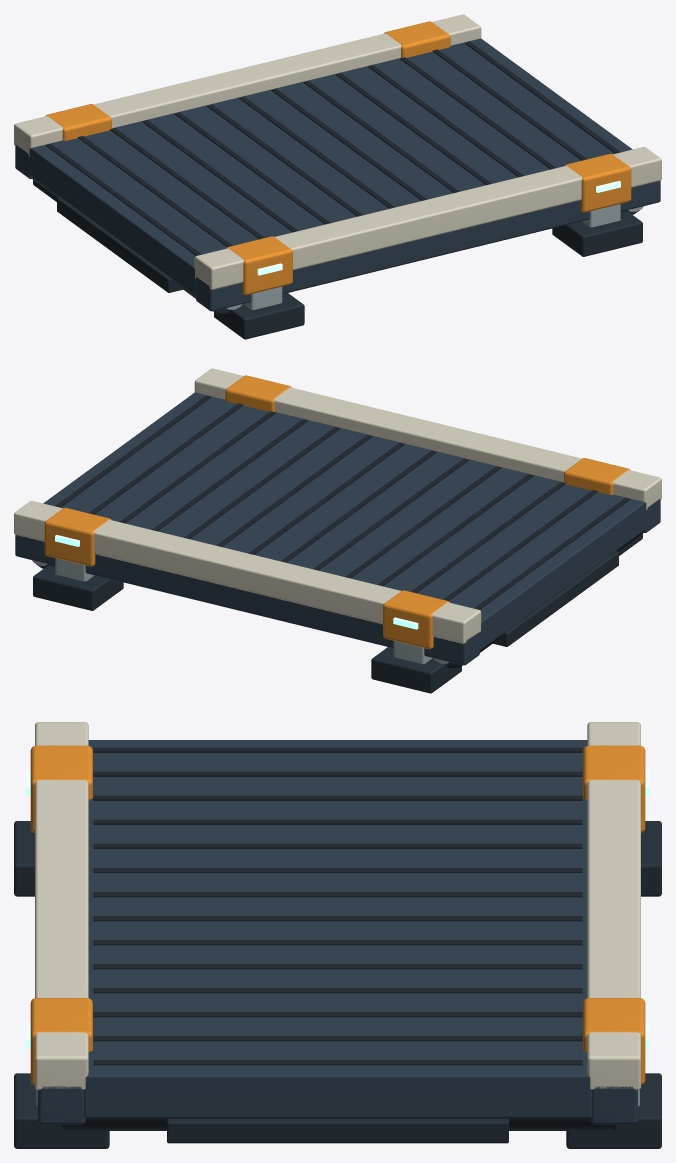
Rendered from belt.glb.
3 renders of one model, top to bottom at view 1: azimuth 30°, elevation 25°; view 2: azimuth 150°, elevation 25°; view 3: azimuth 270°, elevation 25°, orthographic. The views are drawn at different scales.
Parts seen in each view (by area): view 1: Frame_00, Frame_13, Frame_03, Frame_12, Frame_20, Frame_16, Frame_18, Frame_14, Frame_01, Frame_10, Frame_06, Tread_04 (+15 smaller); view 2: Frame_00, Frame_03, Frame_13, Frame_02, Frame_10, Frame_06, Frame_08, Frame_04, Frame_01, Frame_20, Frame_16, Tread_04 (+15 smaller); view 3: Frame_00, Frame_13, Frame_03, Frame_01, Frame_08, Frame_18, Tread_00, Tread_01, Tread_02, Tread_03, Tread_04, Tread_06 (+17 smaller).
Boxes of the visible parts, box(x1,y1,x2,y2) form: Frame_00: box(29, 38, 632, 296); Frame_13: box(194, 147, 661, 289); Frame_03: box(14, 14, 481, 156); Frame_12: box(196, 180, 660, 311); Frame_20: box(564, 153, 631, 212); Frame_16: box(226, 236, 292, 295); Frame_18: box(552, 211, 642, 256); Frame_14: box(214, 293, 304, 339); Frame_01: box(57, 197, 182, 292); Frame_10: box(384, 21, 450, 57); Frame_06: box(45, 104, 111, 140); Tread_04: box(174, 112, 330, 224); Frame_00: box(43, 392, 646, 650); Frame_03: box(14, 501, 481, 643); Frame_13: box(194, 368, 661, 510); Frame_02: box(15, 534, 479, 665); Frame_10: box(44, 507, 111, 566); Frame_06: box(383, 590, 449, 649); Frame_08: box(33, 565, 123, 610); Frame_04: box(371, 647, 461, 693); Frame_01: box(493, 551, 618, 646); Frame_20: box(225, 375, 291, 411); Frame_16: box(564, 458, 630, 494); Tread_04: box(345, 466, 501, 578); Frame_00: box(84, 740, 591, 1117); Frame_13: box(35, 722, 88, 1090); Frame_03: box(587, 722, 640, 1090); Frame_01: box(167, 1118, 508, 1143); Frame_08: box(566, 1073, 661, 1148); Frame_18: box(14, 1073, 109, 1148); Tread_00: box(93, 747, 582, 752); Tread_01: box(93, 771, 582, 776); Tread_02: box(93, 795, 582, 800); Tread_03: box(93, 819, 582, 824); Tread_04: box(93, 843, 582, 848); Tread_06: box(93, 892, 582, 897).
Size of the model in its own units: 2 by 0.312 by 1.63.
